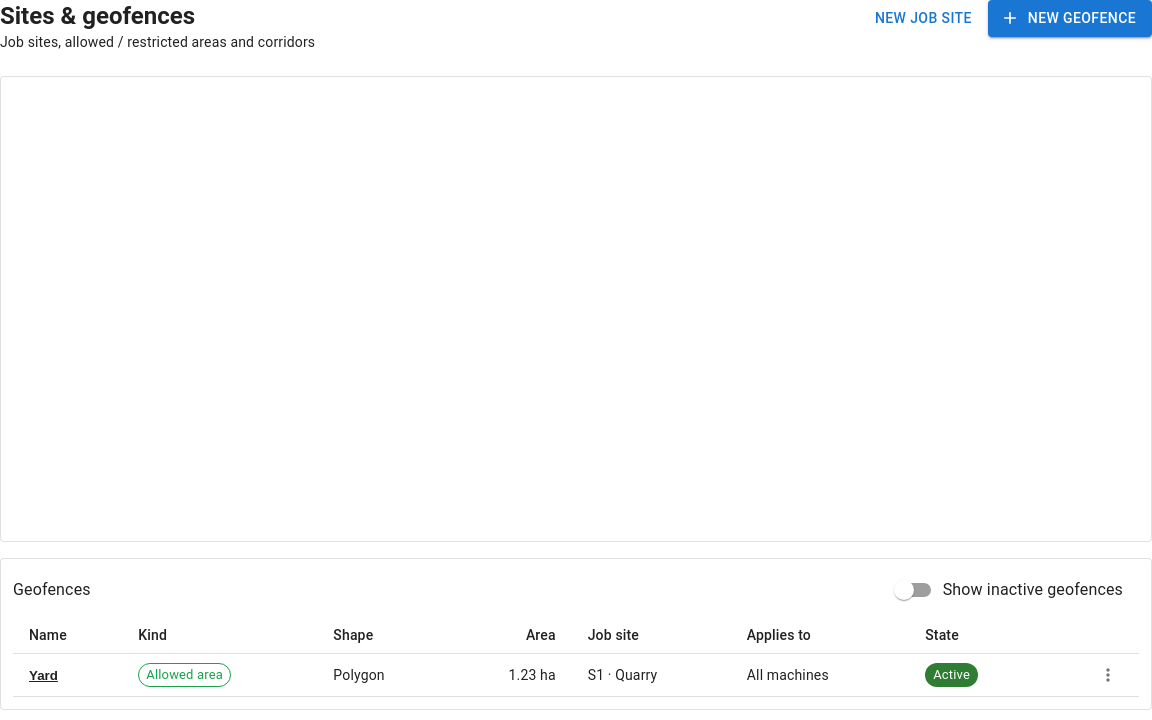
Test case: geofence row actions › shows every field and the job site in the details drawer
The image size is (1152, 720).
Click the button named "Actions for geofence Yard" at (1108, 675), box [1093,660,1123,690]
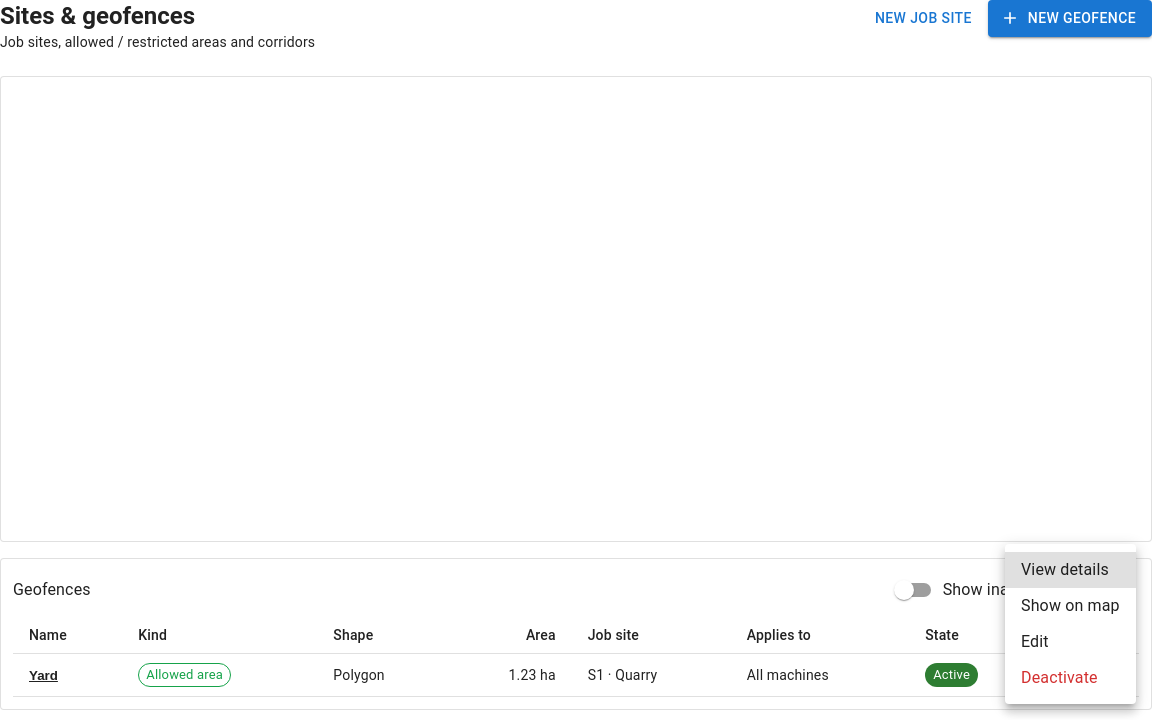
Click the menu item "View details" at (1070, 570), box [1005,552,1136,588]
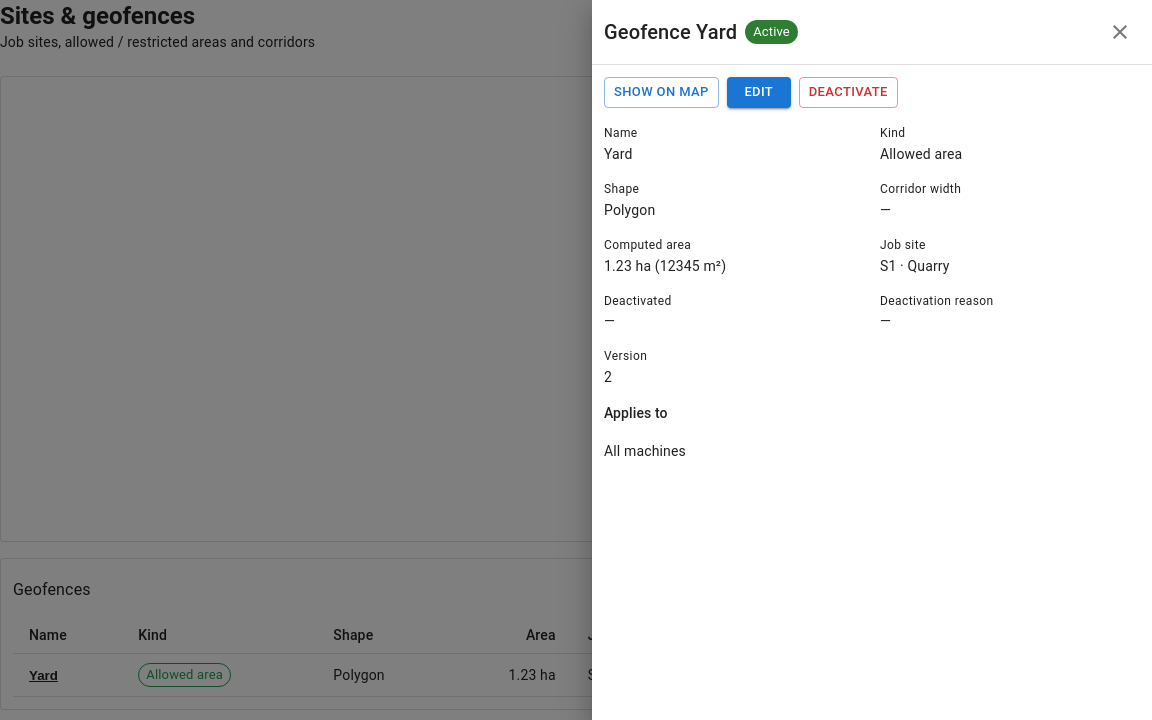
Check: the heading "Geofence Yard" is shown, box [604,16,737,48]
Check: the text "S1 · Quarry" is shown, box [880,258,950,274]
Check: the text "All machines" is shown, box [604,443,686,459]
